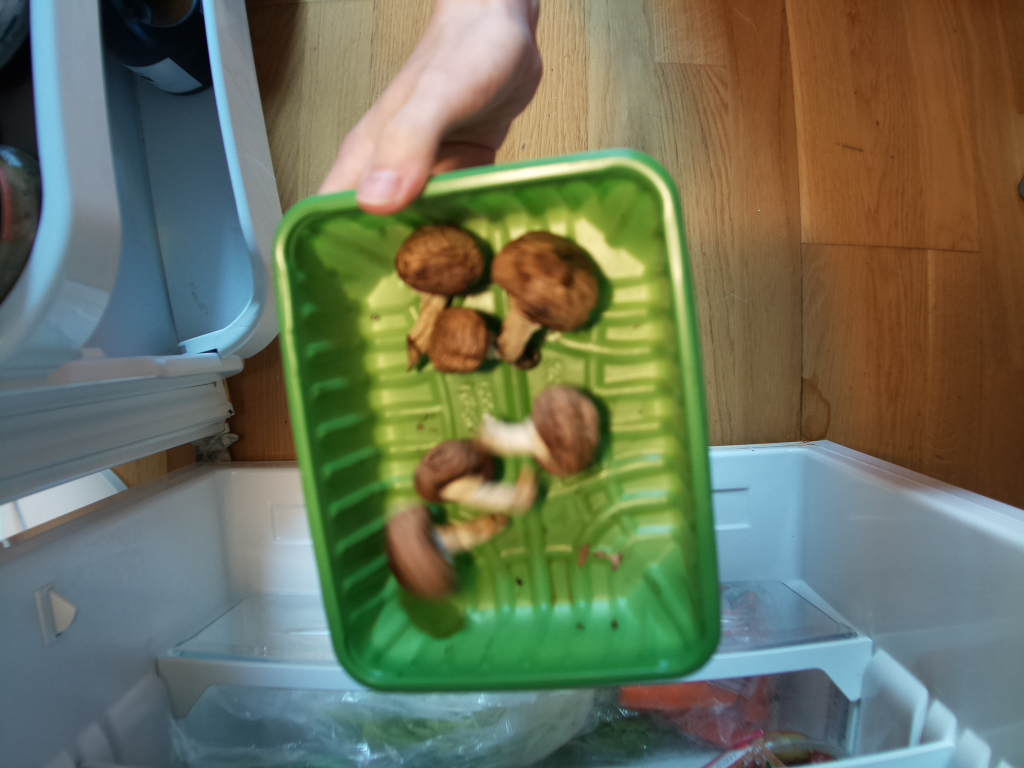mushrooms-bad: (278, 151, 727, 697)
